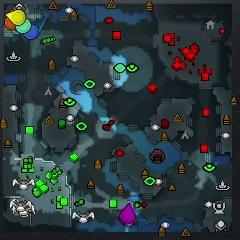p1: (23, 24, 39, 40)
p2: (15, 18, 32, 34)
p3: (119, 203, 136, 225)
p4: (5, 9, 26, 25)
p5: (4, 16, 17, 31)
